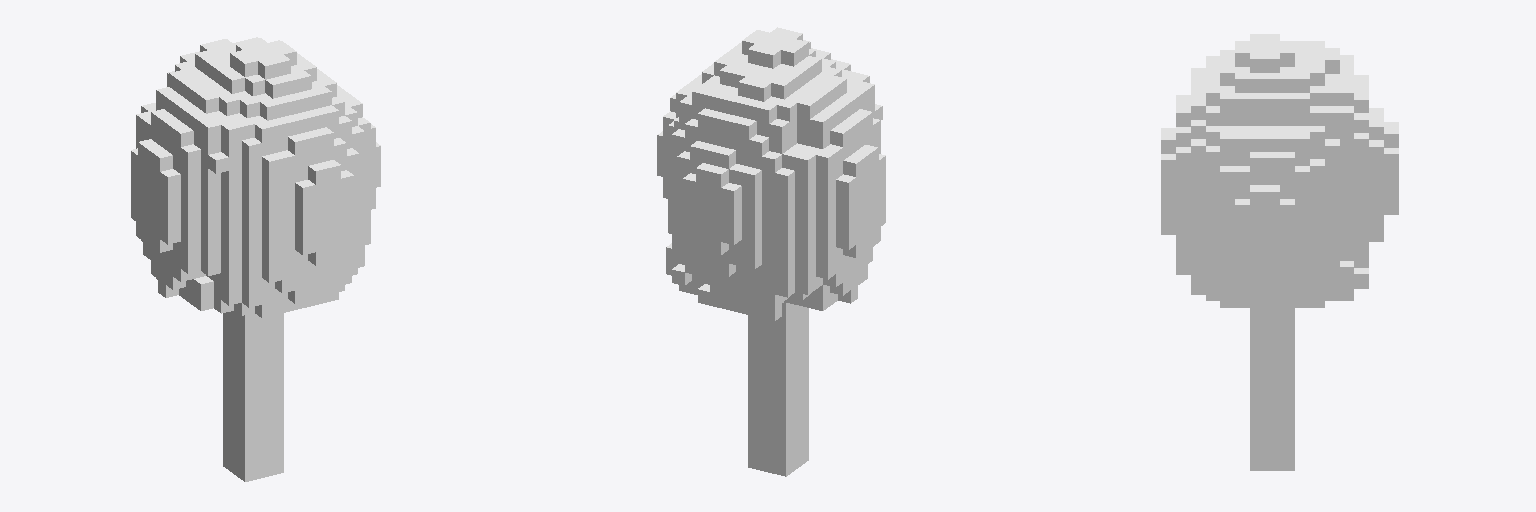
The model's file is tree_2-1.obj.
3 renders of one model, left to right at view 1: azimuth 30°, elevation 25°; view 2: azimuth 150°, elevation 25°; view 3: azimuth 270°, elevation 25°, orthographic.
Parts seen in each view (by area): view 1: object 1; view 2: object 1; view 3: object 1.
Part boxes in pixels (x1,y1,x2,y2): object 1: (131,37,380,481); object 1: (657,27,885,476); object 1: (1161,34,1398,470).
Size of the model in its own units: 1.6 by 3.1 by 1.6.